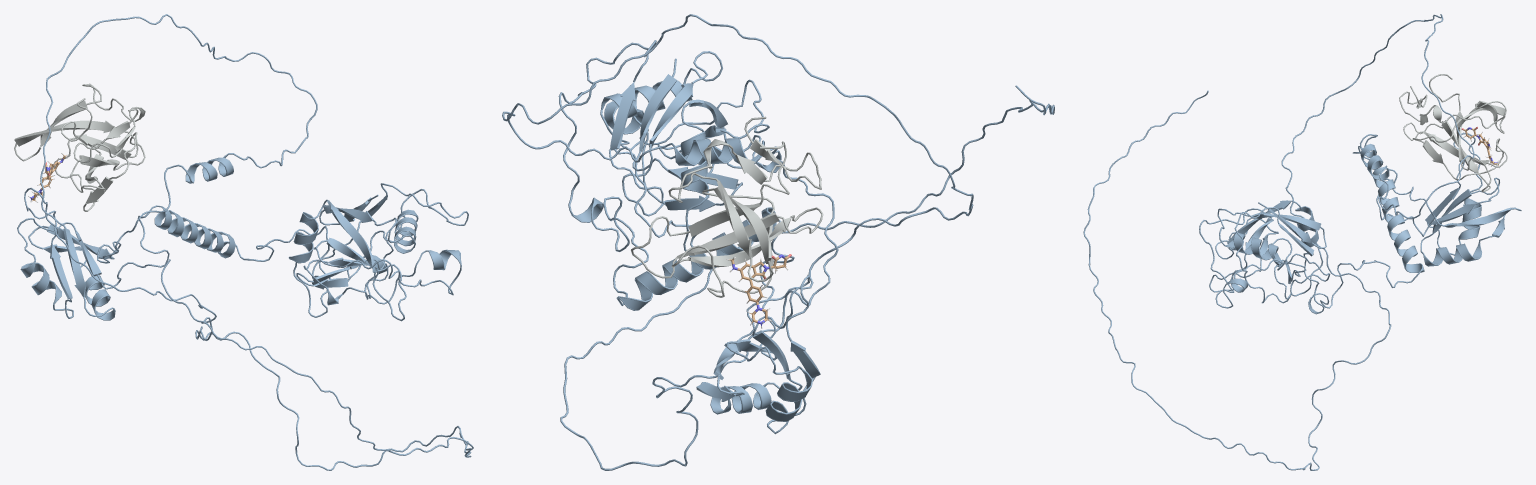
3 renders of one model, left to right at view 1: azimuth 30°, elevation 25°; view 2: azimuth 150°, elevation 25°; view 3: azimuth 270°, elevation 25°, orthographic. The views are drawn at different scales.
Visible parts, largest first — view 1: node-geom105, node-geom106; view 2: node-geom105, node-geom106; view 3: node-geom105, node-geom106.
Boxes of the visible parts, x1,y1,x2,y2 form: node-geom105: [14, 83, 468, 321]; node-geom106: [17, 14, 473, 470]; node-geom105: [558, 40, 823, 310]; node-geom106: [502, 14, 1054, 470]; node-geom105: [1199, 74, 1507, 314]; node-geom106: [1083, 14, 1521, 470].
Size of the model in its own units: 96.43 by 112 by 119.
